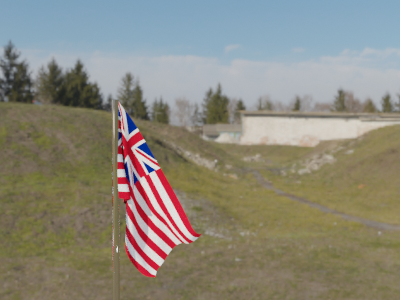Malaysia flag: (115, 99, 203, 279)
